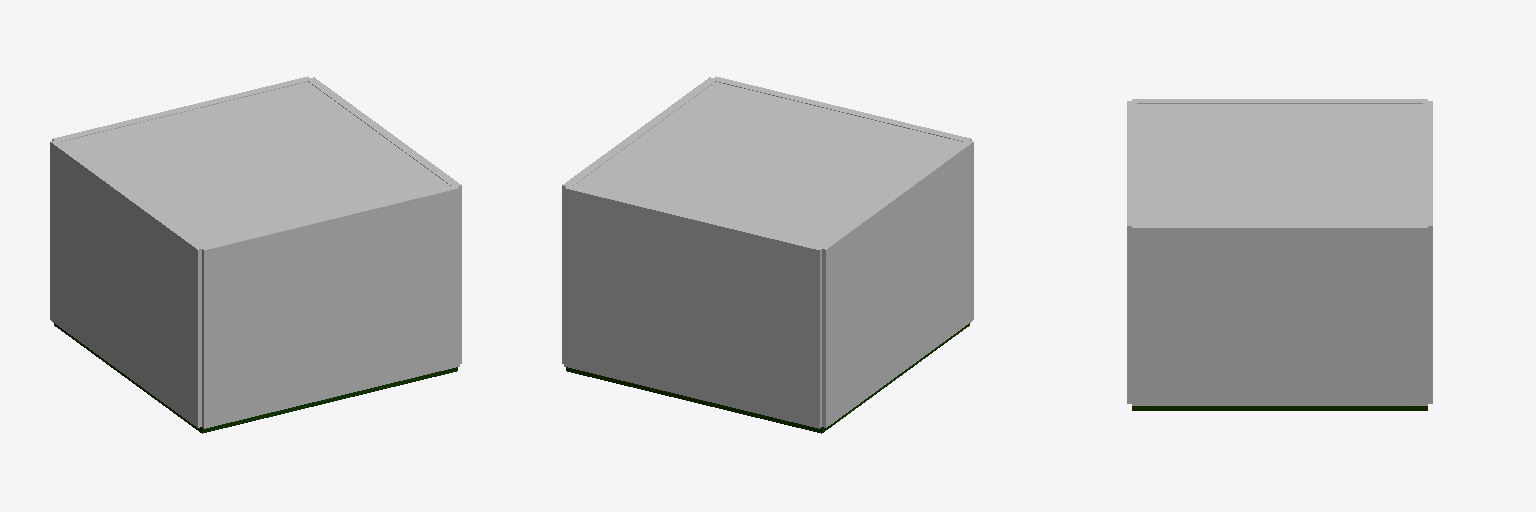
The picture shows the model from 3 angles: view 1: azimuth 30°, elevation 25°; view 2: azimuth 150°, elevation 25°; view 3: azimuth 270°, elevation 25°; orthographic projection.
Parts seen in each view (by area): view 1: Cube.003, Cube.010_Cube.011, Cube.002, Cube.004, Cube.009_Cube.010, Cube.001; view 2: Cube.001, Cube.010_Cube.011, Cube.002, Cube.004, Cube.009_Cube.010, Cube.003; view 3: Cube.004, Cube.010_Cube.011, Cube.003, Cube.001, Cube.009_Cube.010, Cube.002.
Part boxes in pixels (bbox=[...]): Cube.003: bbox=[200, 185, 459, 428]; Cube.010_Cube.011: bbox=[63, 82, 449, 245]; Cube.002: bbox=[50, 140, 202, 427]; Cube.004: bbox=[306, 77, 461, 363]; Cube.009_Cube.010: bbox=[54, 323, 457, 433]; Cube.001: bbox=[52, 76, 308, 141]; Cube.001: bbox=[564, 186, 821, 428]; Cube.010_Cube.011: bbox=[574, 82, 960, 245]; Cube.002: bbox=[818, 141, 973, 427]; Cube.004: bbox=[562, 77, 715, 363]; Cube.009_Cube.010: bbox=[566, 323, 969, 433]; Cube.003: bbox=[712, 76, 971, 141]; Cube.004: bbox=[1132, 224, 1427, 405]; Cube.010_Cube.011: bbox=[1137, 104, 1422, 223]; Cube.003: bbox=[1127, 101, 1136, 403]; Cube.001: bbox=[1423, 101, 1432, 403]; Cube.009_Cube.010: bbox=[1132, 406, 1427, 410]; Cube.002: bbox=[1132, 99, 1427, 103].
Bounding box in the file's own units: 6.2 × 4.15 × 6.2.
2 materials, 1 textured.